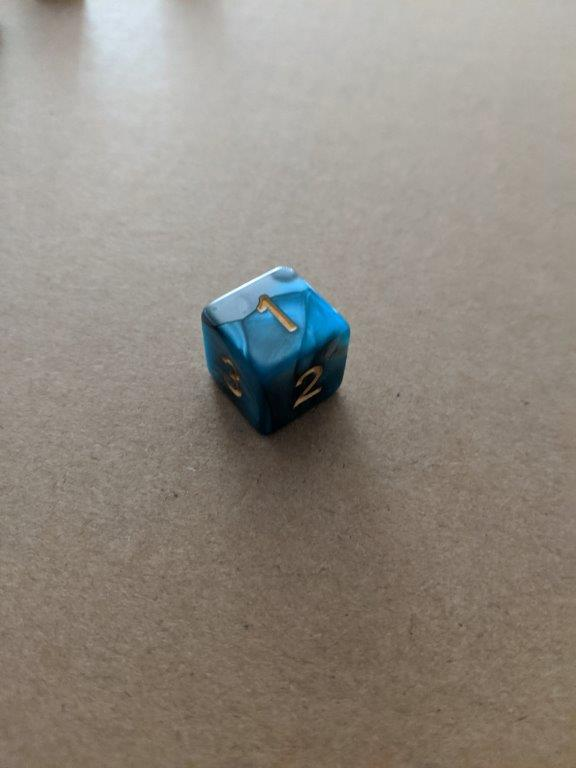d6-1: (201, 263, 351, 438)
